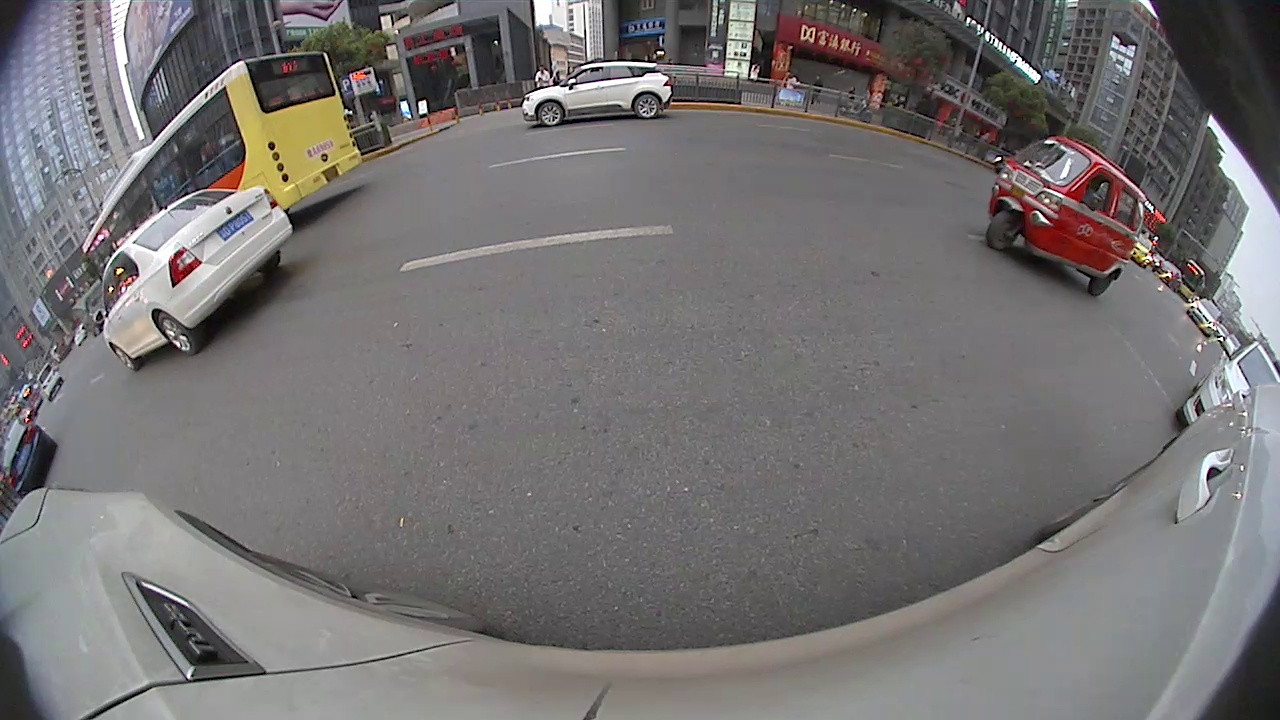bus: (80, 46, 365, 283)
car: (98, 185, 298, 372), (520, 58, 674, 130), (1180, 338, 1278, 430), (1, 416, 60, 494)
front: (987, 208, 1025, 255), (110, 342, 142, 373), (537, 99, 563, 127)
rear: (158, 311, 199, 360), (632, 93, 661, 120)
rider: (981, 134, 1148, 295)
